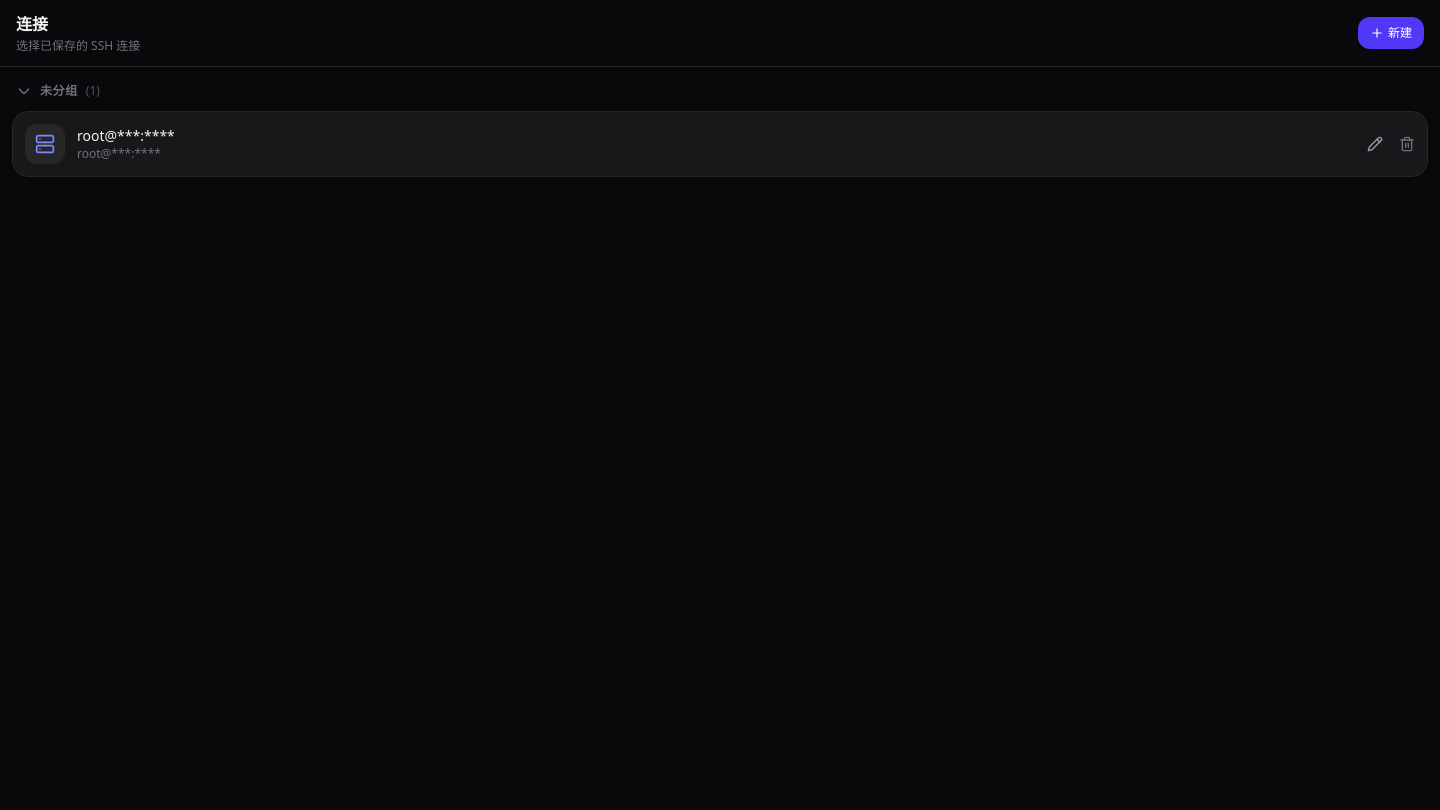
Scenario: 删除确认框走隐私模式口径 › 没有名字的连接在隐私模式下显示 root@***:****
Click the button named "删除" at (1407, 144), box x1=1391 y1=128 x2=1423 y2=160
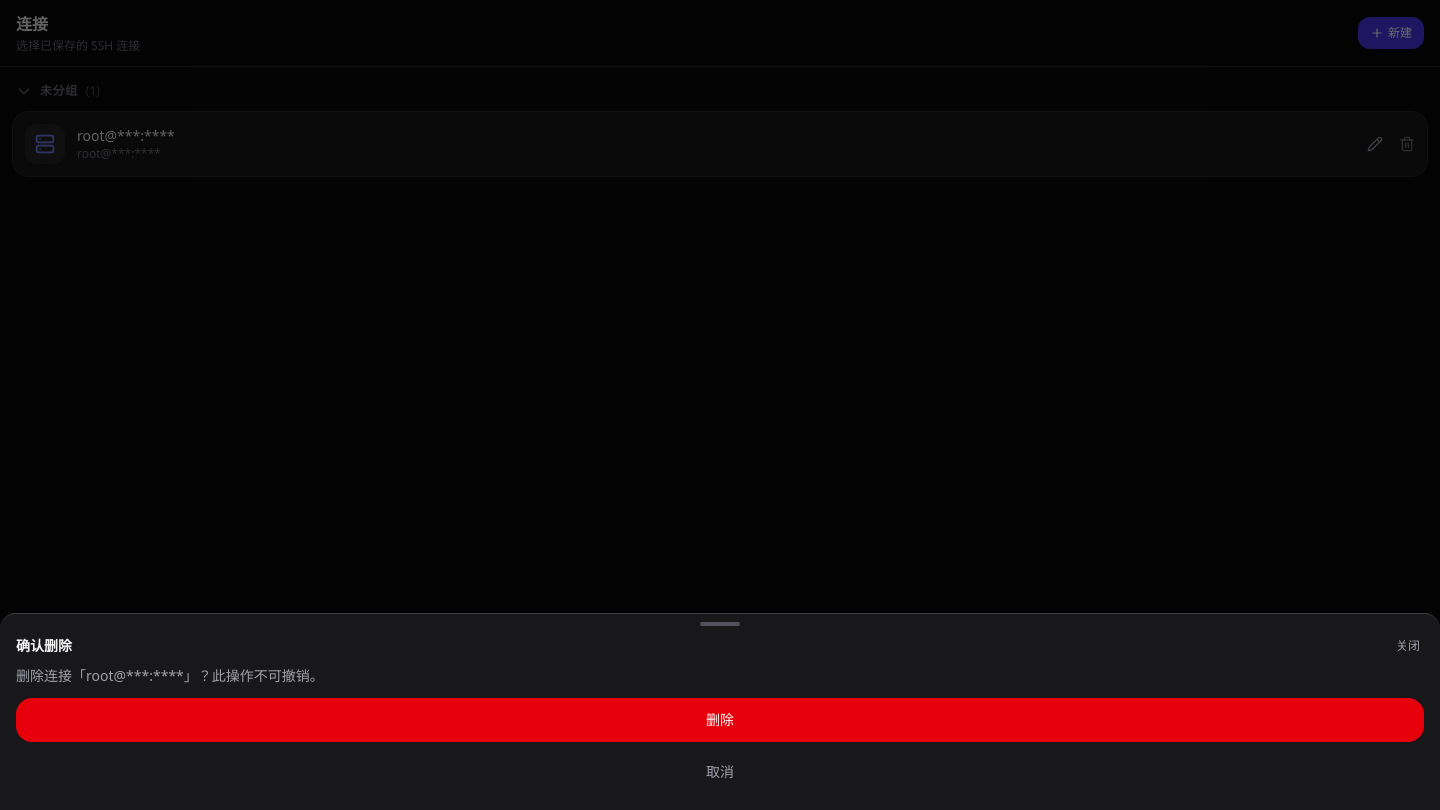
Now the text "删除连接「root@***:****」" is shown, box x1=16 y1=666 x2=324 y2=685
